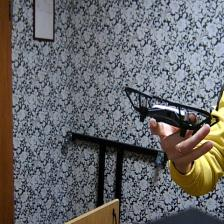drone: (119, 80, 222, 148)
